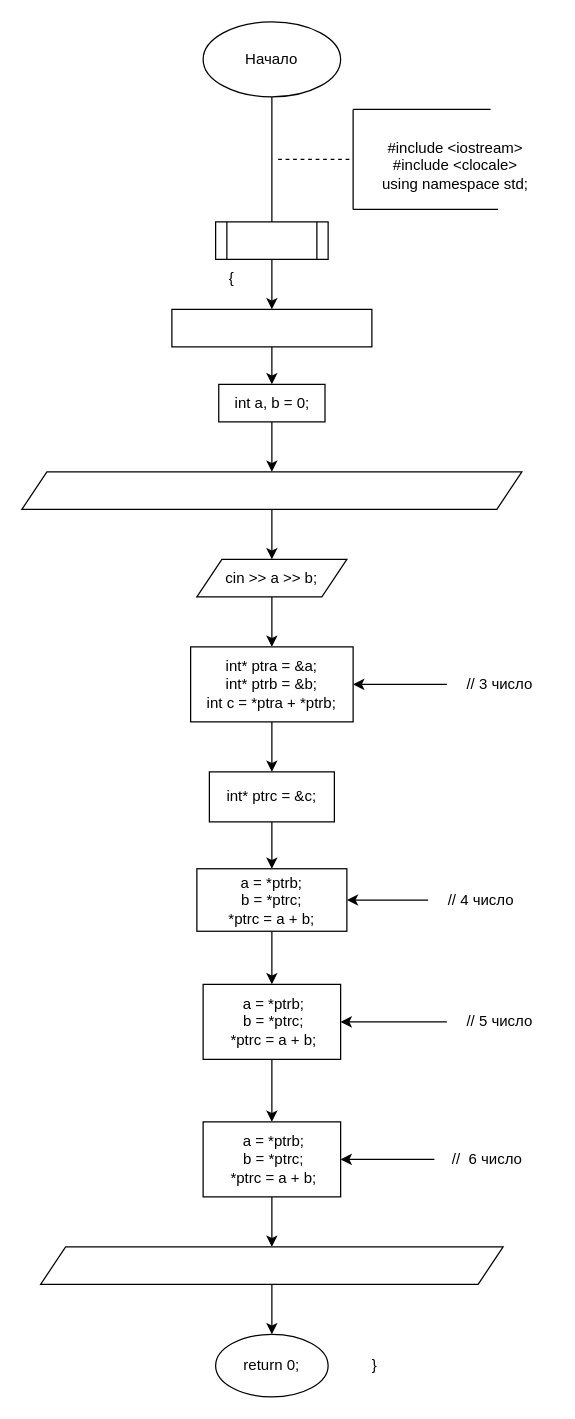
This 575x1419 diagram has some shape labels left out. The shapes that lost their labels are listed below. From the top down, each one's centre as x and y in pixels, then its label:
pixel 271 240: int main()
pixel 271 327: setlocale(LC_ALL, "rus");
pixel 271 490: cout << "Введите первые два числа последдовательности: ";
pixel 271 1265: cout << "5-е число в последоваельности = " << *ptrc << endl;
